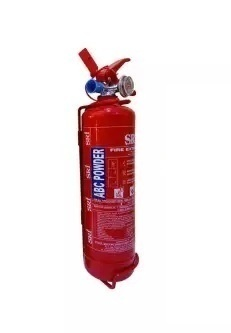fire_extinguisher: (77, 47, 139, 289)
